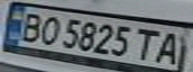2: (93, 20, 115, 56)
5: (57, 16, 84, 51), (112, 22, 136, 58)
8: (75, 18, 100, 53)
A: (151, 29, 187, 65)
B: (12, 10, 48, 43)
O: (33, 13, 63, 46)
T: (130, 26, 163, 62)
